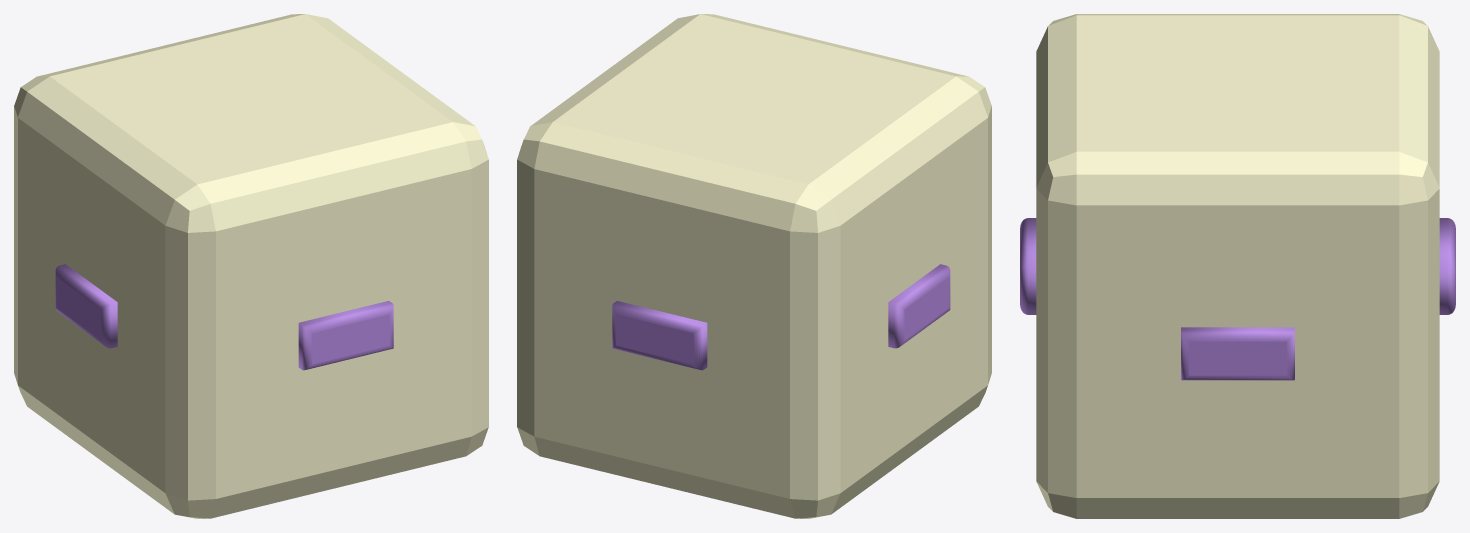
File: substraction.fbx
The picture shows the model from 3 angles, left to right: view 1: azimuth 30°, elevation 25°; view 2: azimuth 150°, elevation 25°; view 3: azimuth 270°, elevation 25°; orthographic projection. The views are drawn at different scales.
Parts seen in each view (by area): view 1: -; view 2: -; view 3: -.
Part boxes in pixels (box(x1,y1,x2,y2)): -: box(14, 14, 488, 518); -: box(517, 14, 991, 518); -: box(1020, 14, 1455, 518).
Bounding box in the file's own units: 216 × 200 × 216.
